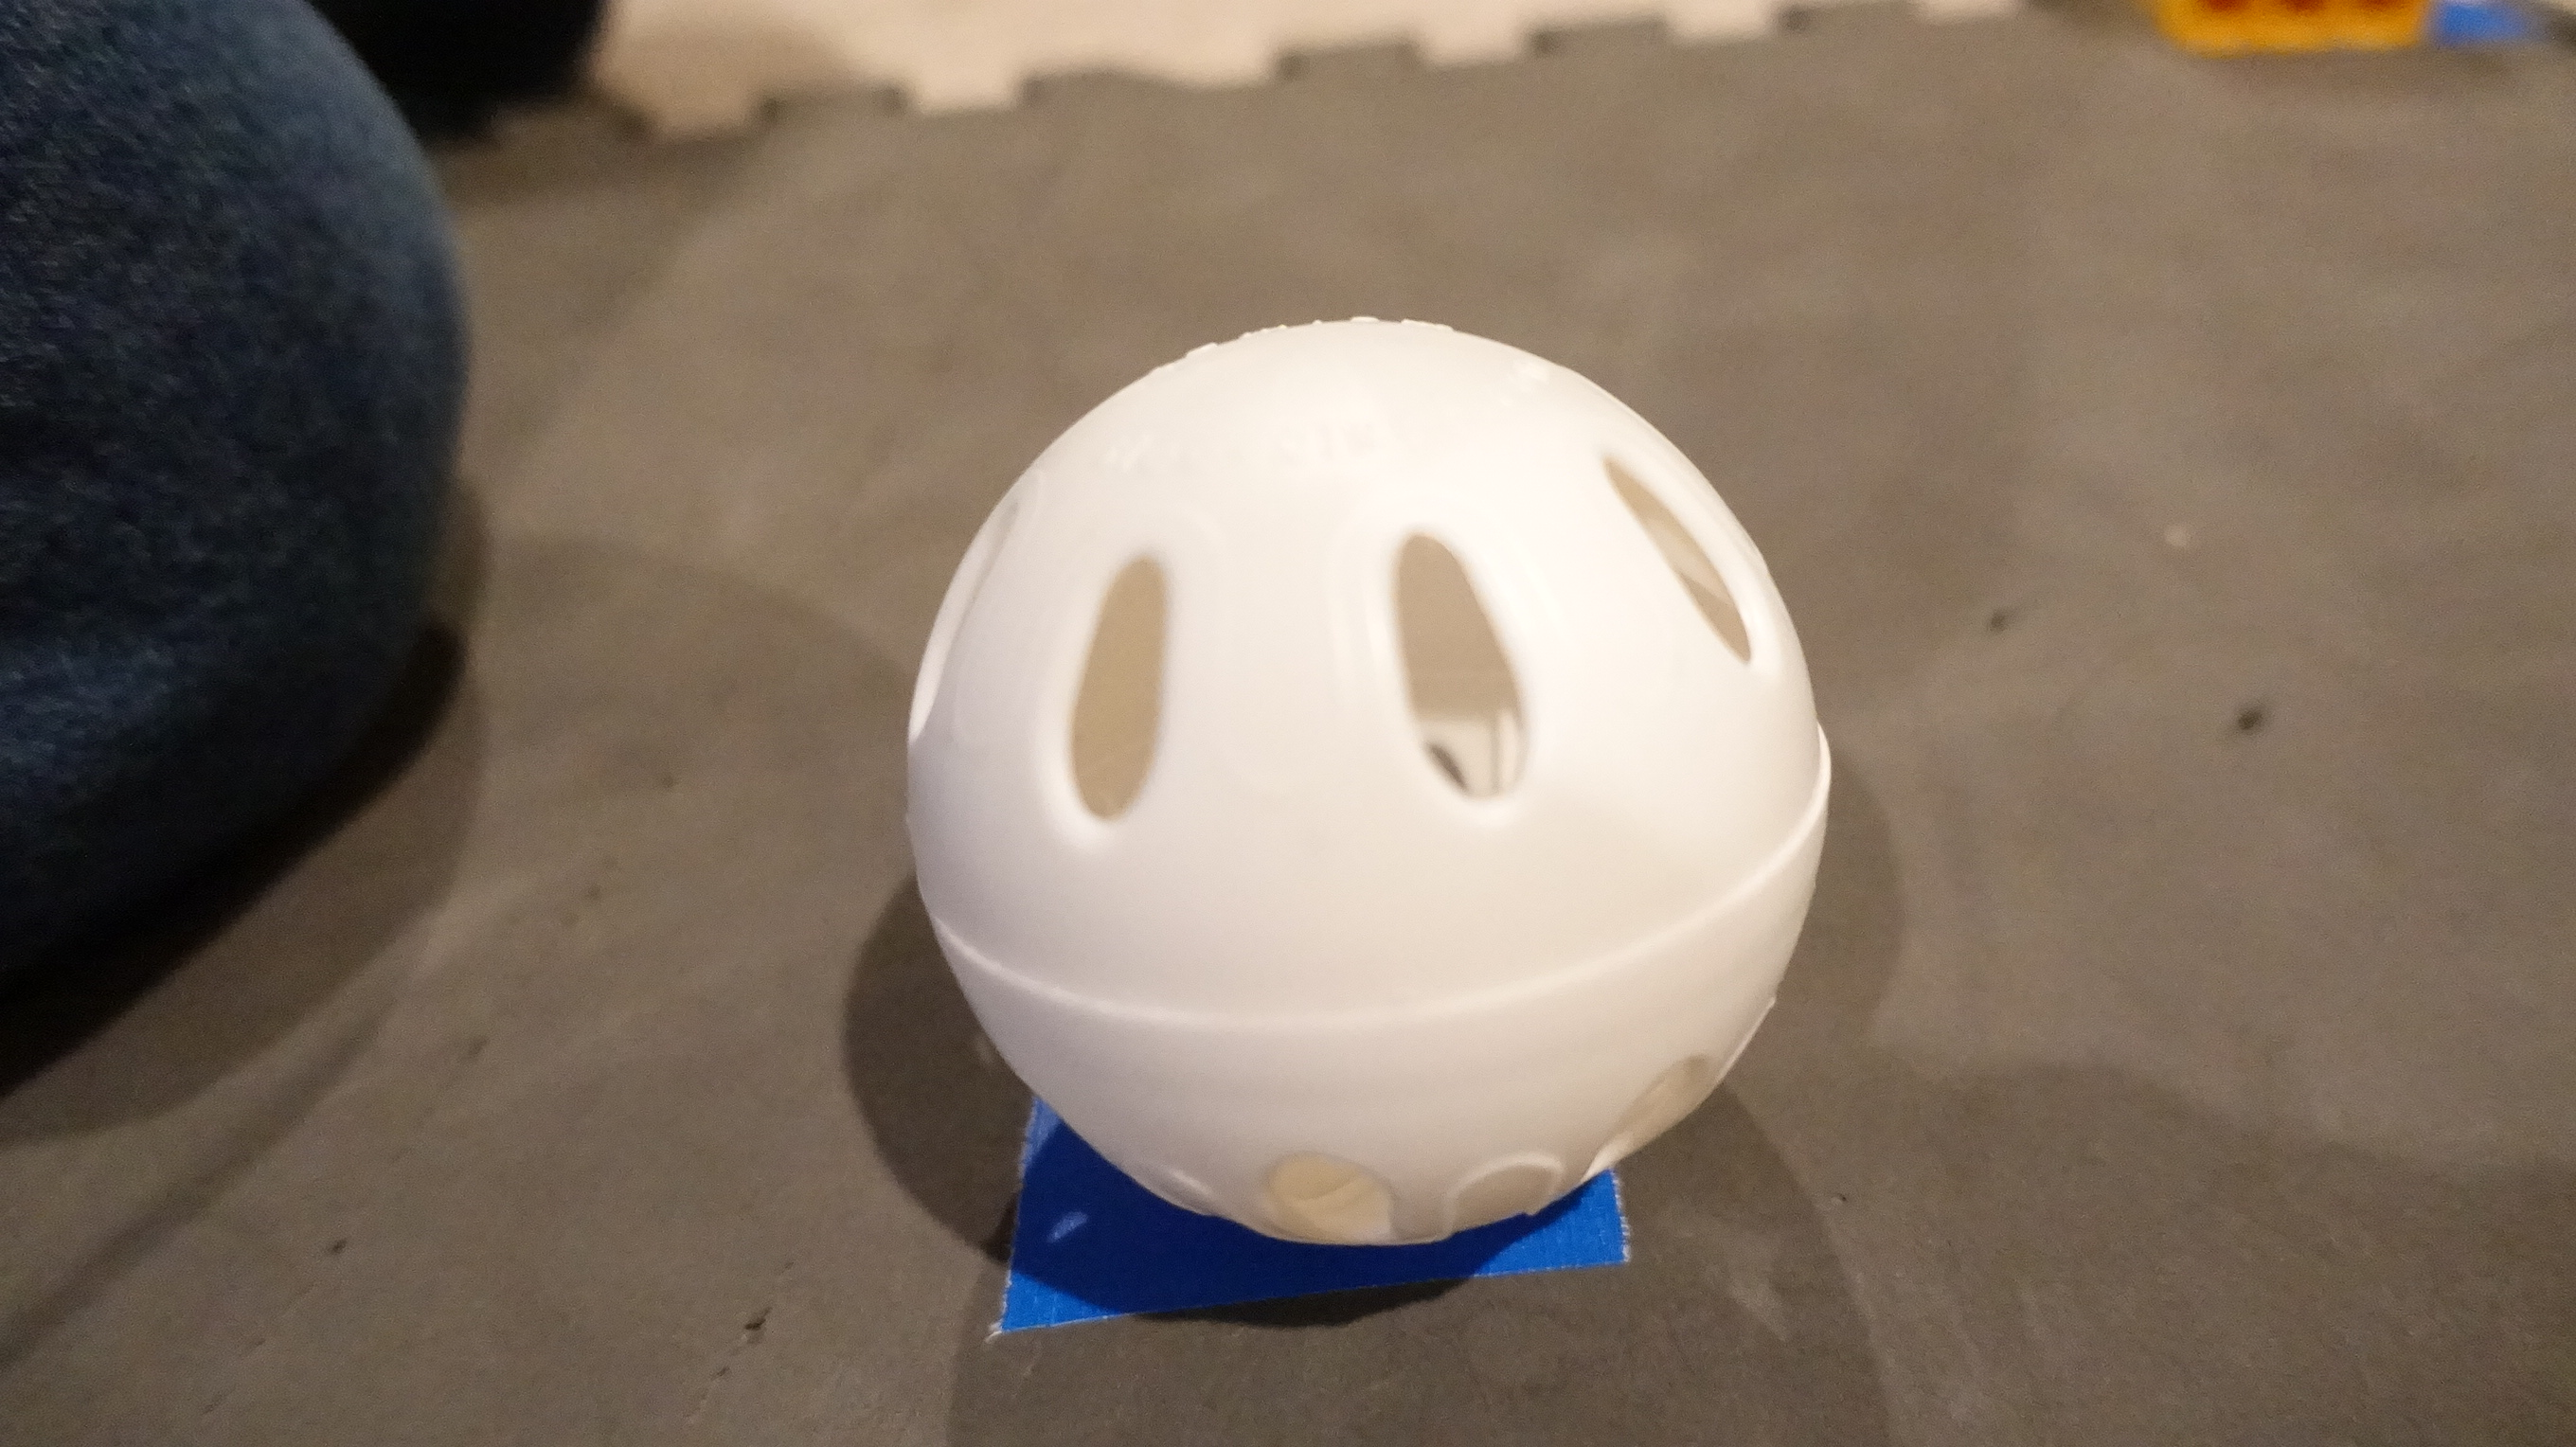gold: (2130, 2, 2479, 88)
silver: (883, 287, 1872, 1270)
